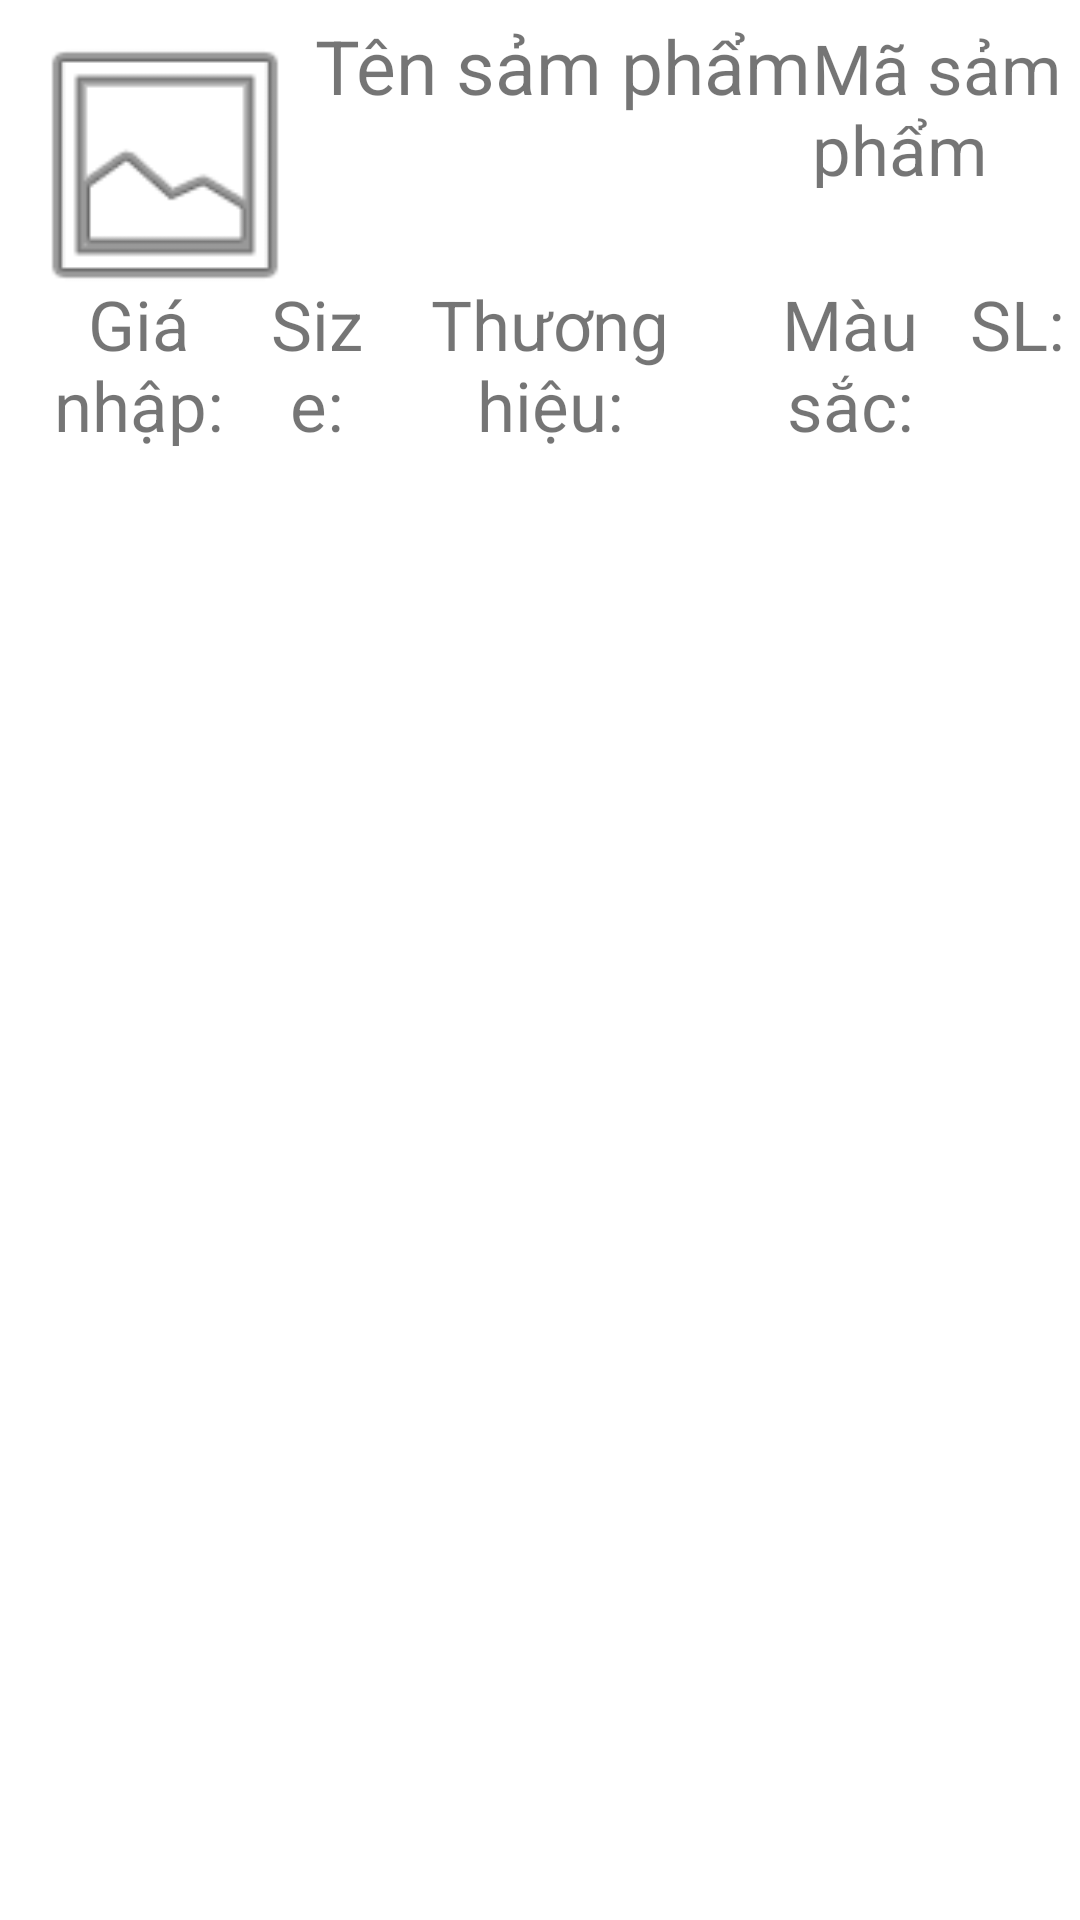

Screen size 1080w x 1920h. Icon name, then its center in pixels as [x,y]:
gallery: [165,180]
